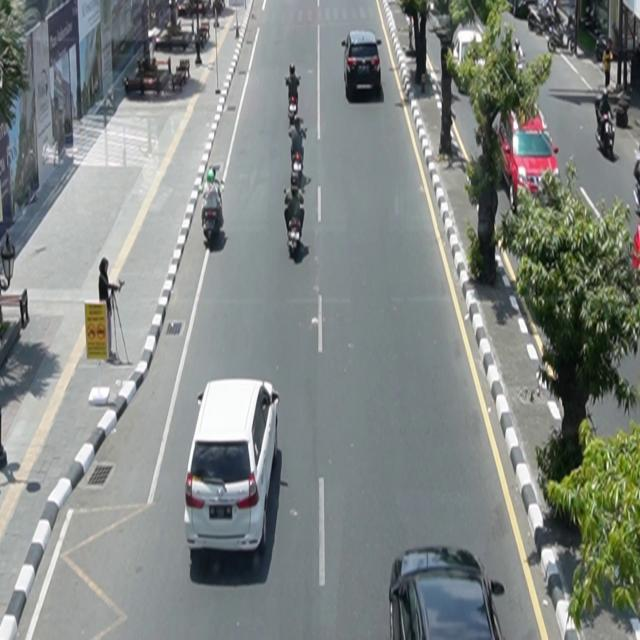car: (185, 378, 281, 557), (390, 547, 507, 640), (492, 101, 561, 213), (342, 31, 383, 100), (202, 182, 224, 242)
